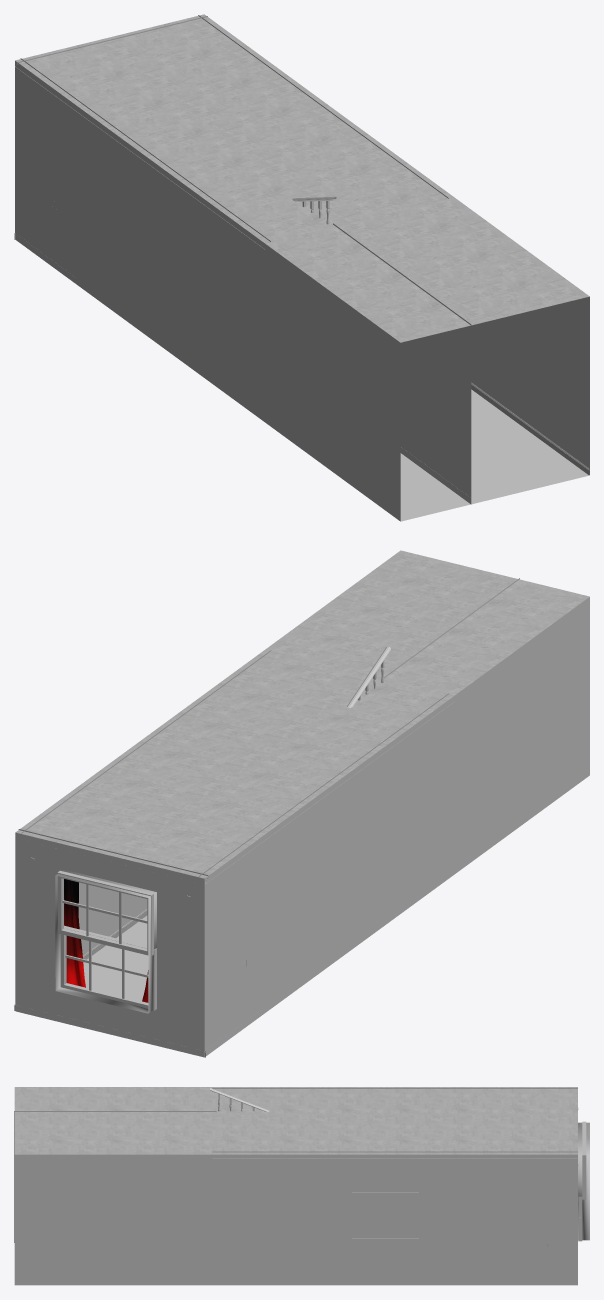
The model's file is House.fbx.
3 views of the same model, one above another, from view 1: azimuth 30°, elevation 25°; view 2: azimuth 150°, elevation 25°; view 3: azimuth 270°, elevation 25° (orthographic). The views are drawn at different scales.
Visible parts, largest first — view 1: Walls, Wall.Stairs, cornice_01, skirting_torus; view 2: Walls, Window.Top, Window.Frame, Window.Bottom, Curtain.R, cornice_01; view 3: Walls, cornice_01, Window.Frame, Window.Top, Wall.Stairs.
Part boxes in pixels (x1=…): Walls: x1=15, y1=14, x2=589, y2=521; Wall.Stairs: x1=333, y1=223, x2=471, y2=504; cornice_01: x1=15, y1=15, x2=448, y2=249; skirting_torus: x1=14, y1=233, x2=589, y2=494; Walls: x1=15, y1=550, x2=589, y2=1057; Window.Top: x1=57, y1=870, x2=153, y2=956; Window.Frame: x1=55, y1=869, x2=157, y2=1013; Window.Bottom: x1=60, y1=925, x2=156, y2=1010; Curtain.R: x1=64, y1=879, x2=85, y2=987; cornice_01: x1=18, y1=650, x2=454, y2=883; Walls: x1=14, y1=1087, x2=577, y2=1285; cornice_01: x1=212, y1=1088, x2=577, y2=1158; Window.Frame: x1=578, y1=1122, x2=589, y2=1240; Window.Top: x1=582, y1=1121, x2=586, y2=1199; Wall.Stairs: x1=14, y1=1111, x2=216, y2=1242.
Bounding box in the file's own units: 587 × 617 × 2090.
